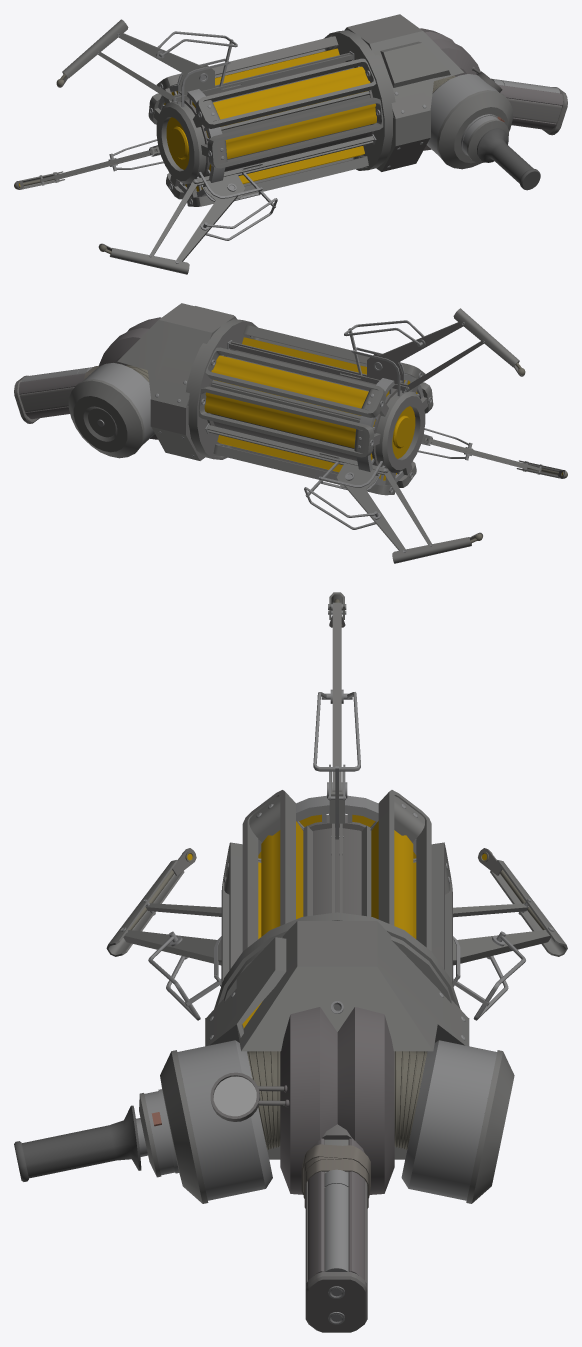
The model's file is Gravity Gun.fbx.
3 views of the same model, one above another, from view 1: azimuth 30°, elevation 25°; view 2: azimuth 150°, elevation 25°; view 3: azimuth 270°, elevation 25° (orthographic). The views are drawn at different scales.
Visible parts, largest first — view 1: polySurface1327; view 2: polySurface1327; view 3: polySurface1327.
Boxes of the visible parts, left/top/right/bottom form: polySurface1327: left=14, top=14, right=567, bottom=274; polySurface1327: left=14, top=303, right=567, bottom=563; polySurface1327: left=14, top=592, right=567, bottom=1332.
Bounding box in the file's own units: 9.06 × 3.7 × 4.92.
